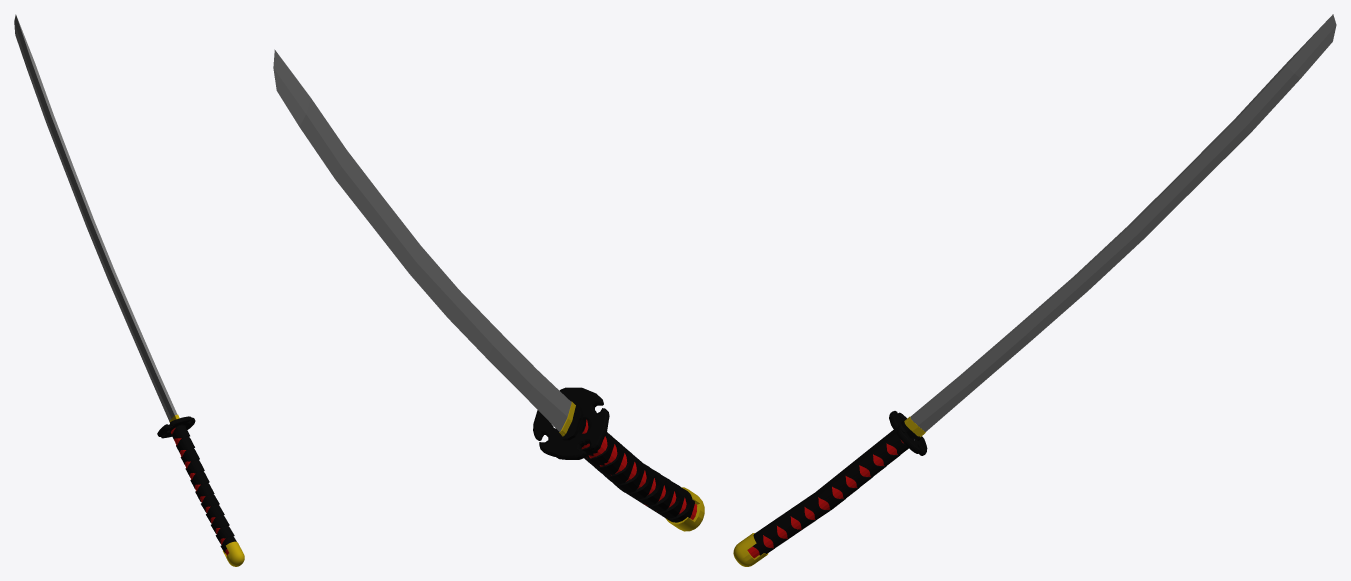
File: w_katana.glb
The picture shows the model from 3 angles, left to right: view 1: azimuth 30°, elevation 25°; view 2: azimuth 150°, elevation 25°; view 3: azimuth 270°, elevation 25°; orthographic projection. The views are drawn at different scales.
Size of the model in its own units: 0.0899 by 1 by 0.9983.
